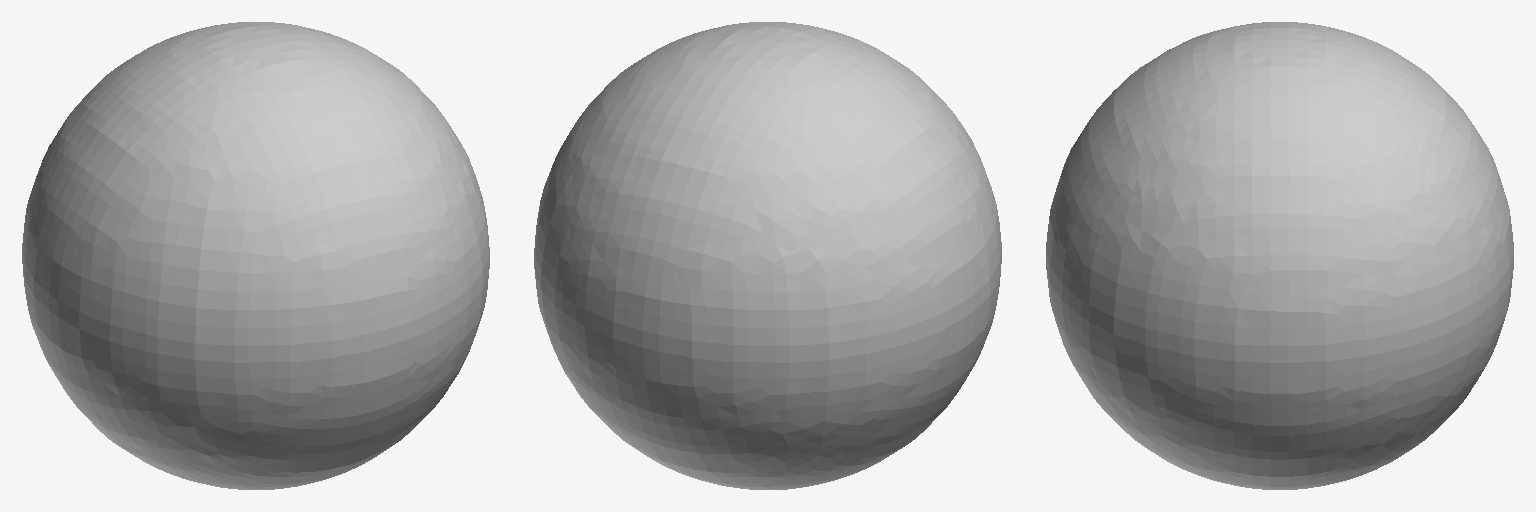
The picture shows the model from 3 angles: view 1: azimuth 30°, elevation 25°; view 2: azimuth 150°, elevation 25°; view 3: azimuth 270°, elevation 25°; orthographic projection.
Visible parts, largest first — view 1: 球体; view 2: 球体; view 3: 球体.
Boxes of the visible parts, x1=… form: 球体: x1=22, y1=22, x2=489, y2=489; 球体: x1=534, y1=22, x2=1001, y2=489; 球体: x1=1046, y1=22, x2=1513, y2=489.
Bounding box in the file's own units: 1.98 × 1.99 × 1.98.